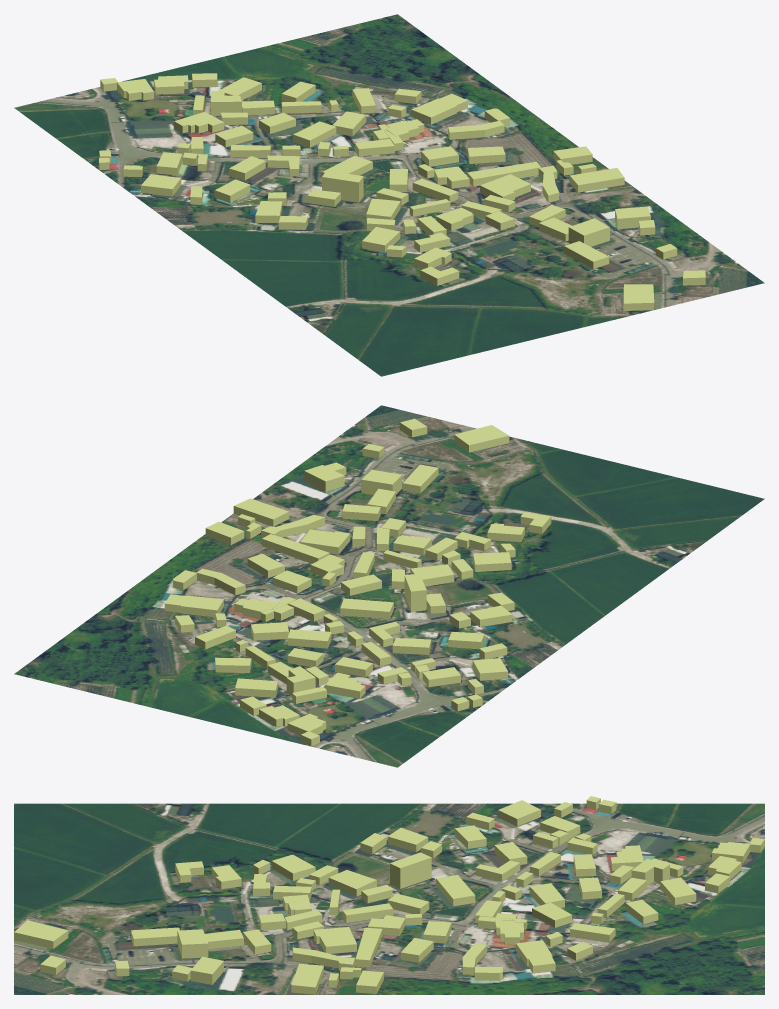
Rendered from Dugok.gltf.
3 renders of one model, top to bottom at view 1: azimuth 30°, elevation 25°; view 2: azimuth 150°, elevation 25°; view 3: azimuth 270°, elevation 25°, orthographic. The views are drawn at different scales.
Parts seen in each view (by area): view 1: Flat Plane, 산출물; view 2: Flat Plane, 산출물; view 3: Flat Plane, 산출물.
Part boxes in pixels (x1=…): Flat Plane: x1=14, y1=14, x2=764, y2=376; 산출물: x1=99, y1=73, x2=705, y2=310; Flat Plane: x1=14, y1=405, x2=764, y2=767; 산출물: x1=164, y1=418, x2=551, y2=746; Flat Plane: x1=14, y1=803, x2=764, y2=994; 산출물: x1=14, y1=796, x2=764, y2=994.
Bounding box in the file's own units: 164 × 8.3 × 272.
2 materials, 1 textured.
